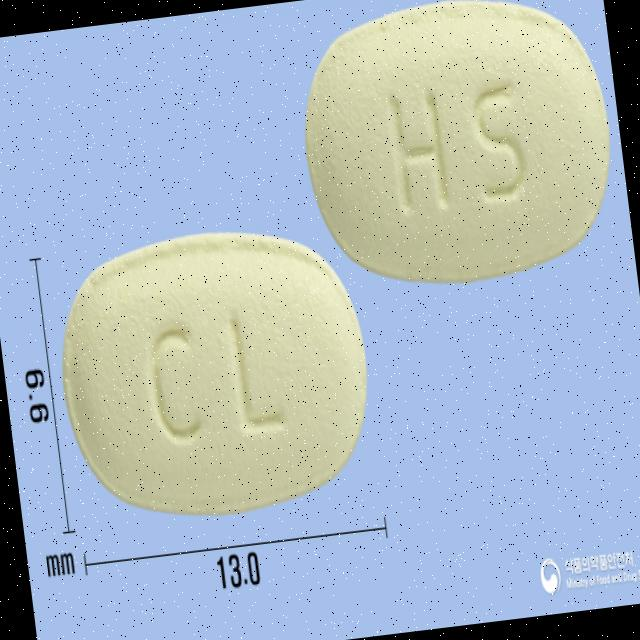Clithro - 500mg: (45, 212, 386, 535), (288, 0, 626, 298)
